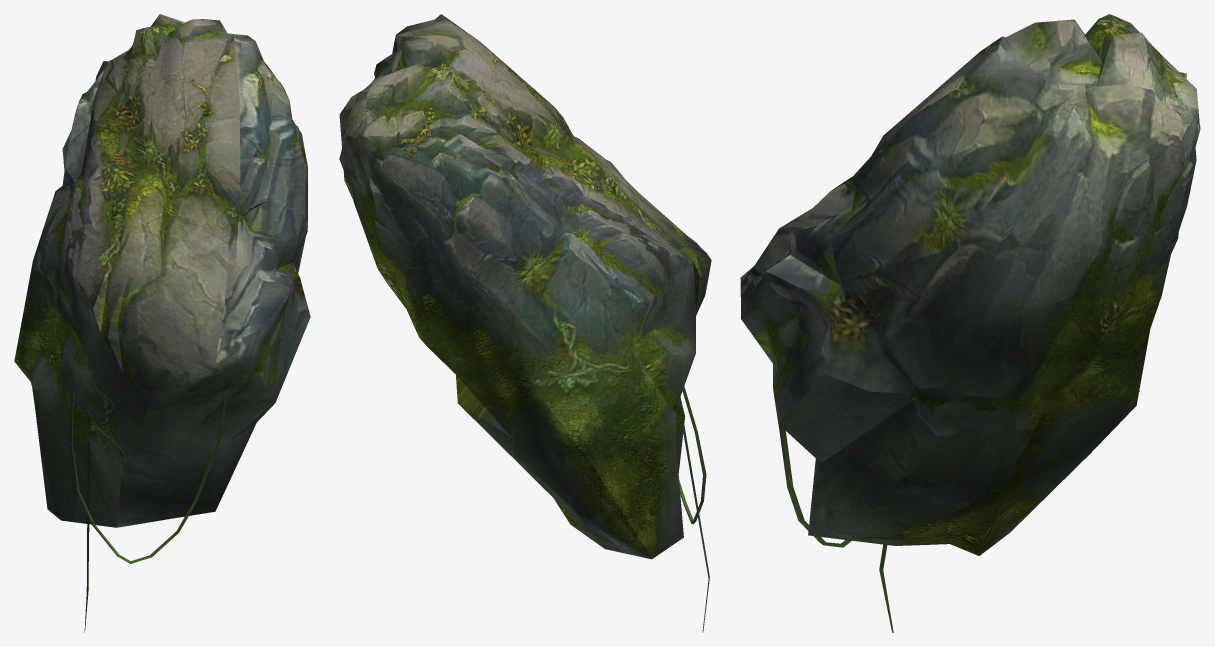
The picture shows the model from 3 angles, left to right: view 1: azimuth 30°, elevation 25°; view 2: azimuth 150°, elevation 25°; view 3: azimuth 270°, elevation 25°; orthographic projection. The views are drawn at different scales.
Visible parts, largest first — view 1: st_003; view 2: st_003; view 3: st_003.
Boxes of the visible parts, x1,y1,x2,y2 form: st_003: (14,14,310,632); st_003: (339,14,711,632); st_003: (740,14,1200,632).
Size of the model in its own units: 223 by 418 by 239.
